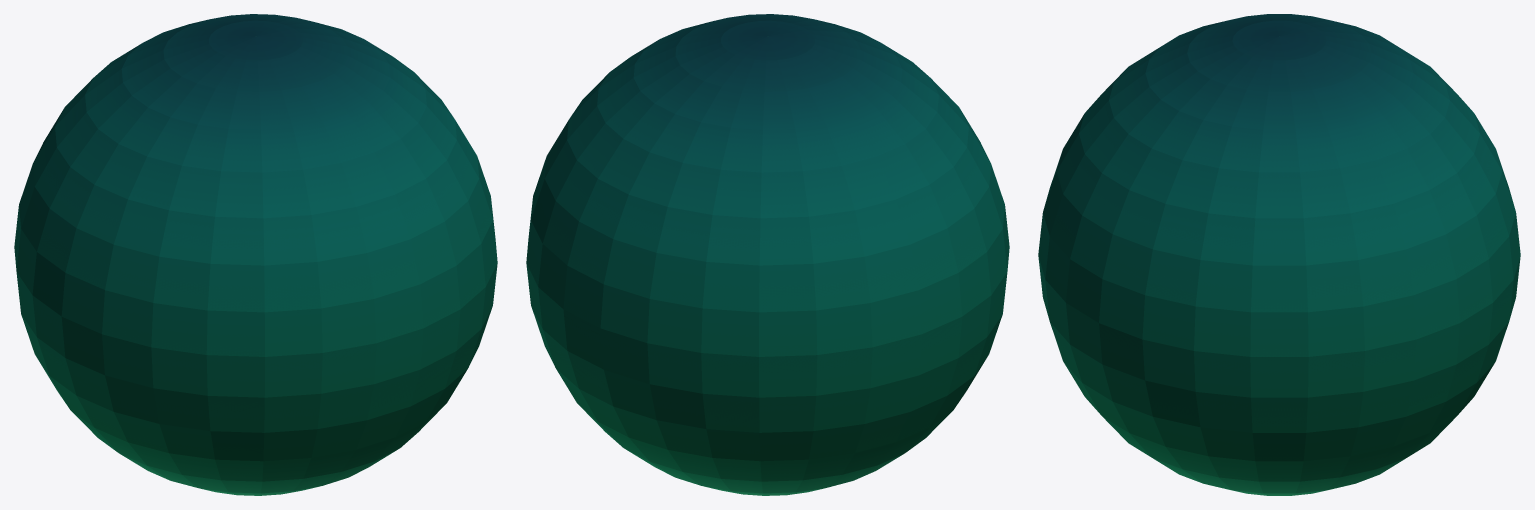
Rendered from Skydome.glb.
3 views of the same model, side by side, from view 1: azimuth 30°, elevation 25°; view 2: azimuth 150°, elevation 25°; view 3: azimuth 270°, elevation 25° (orthographic).
Visible parts, largest first — view 1: Skydome; view 2: Skydome; view 3: Skydome.
Boxes of the visible parts, x1,y1,x2,y2 form: Skydome: (14,14,497,495); Skydome: (526,14,1009,495); Skydome: (1038,14,1520,495).
Bounding box in the file's own units: 1 × 1 × 1.
Materials: 1 (1 with a texture image).
